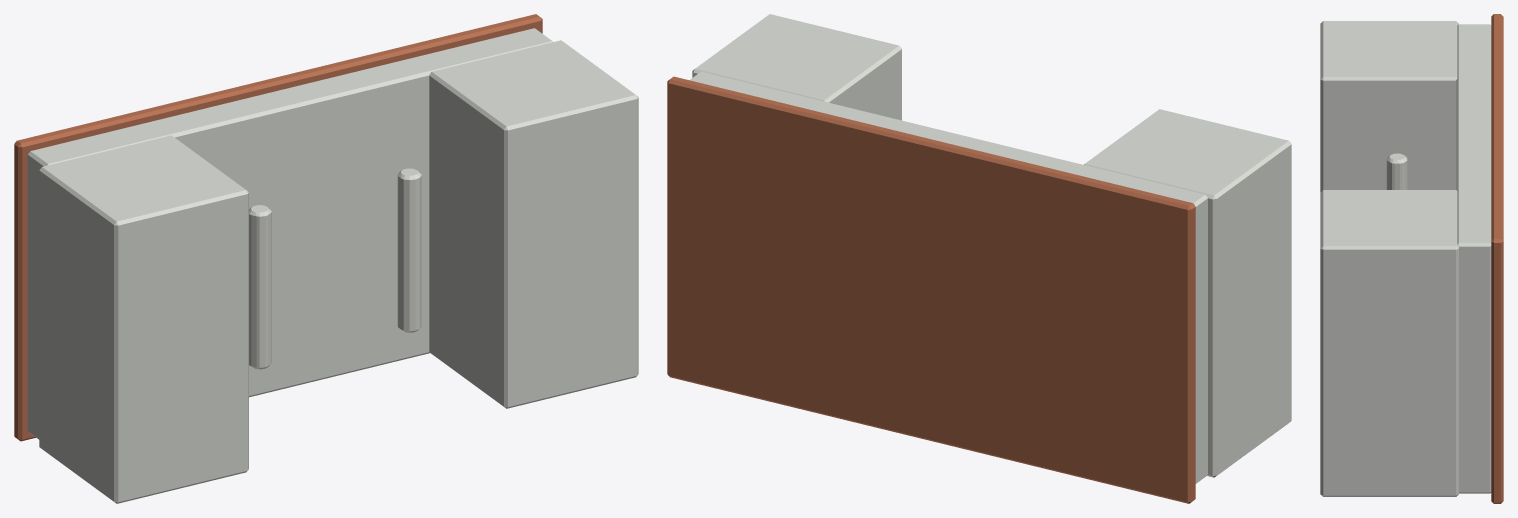
Rendered from propylaea_hero.glb.
3 views of the same model, side by side, from view 1: azimuth 30°, elevation 25°; view 2: azimuth 150°, elevation 25°; view 3: azimuth 270°, elevation 25° (orthographic). The views are drawn at different scales.
Parts seen in each view (by area): view 1: gateway_wing; view 2: gateway_wing; view 3: gateway_wing.
Part boxes in pixels (x1,y1,x2,y2): gateway_wing: (14,14,638,503); gateway_wing: (667,14,1291,503); gateway_wing: (1320,14,1503,503).
Bounding box in the file's own units: 35 × 19 × 11.9.
